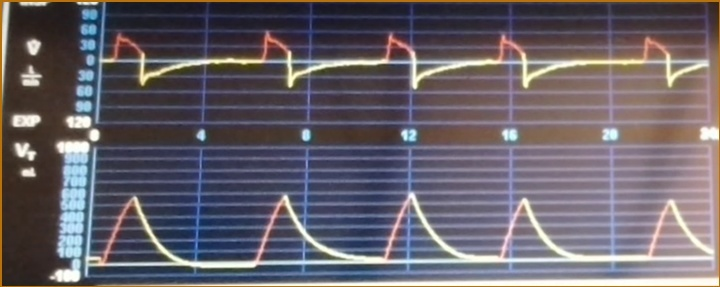Normal Flow: (105, 21, 706, 107)
Normal Volume: (93, 182, 713, 273)
